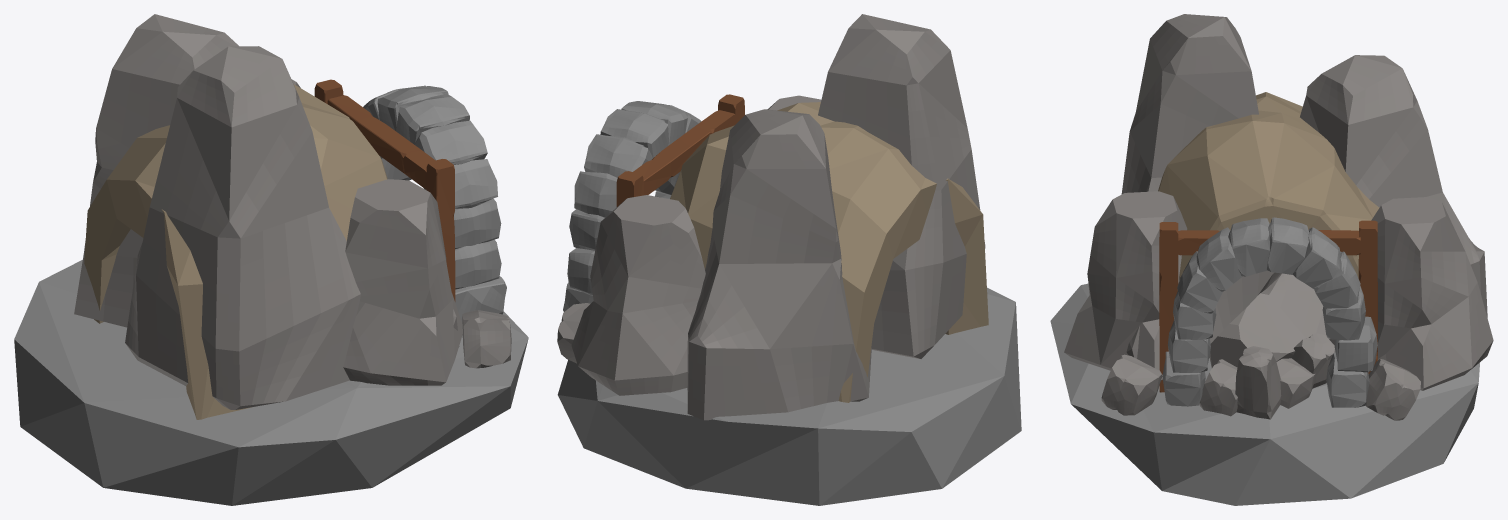
The model's file is stone mine 3.fbx.
3 renders of one model, left to right at view 1: azimuth 30°, elevation 25°; view 2: azimuth 150°, elevation 25°; view 3: azimuth 270°, elevation 25°, orthographic. The views are drawn at different scales.
Parts seen in each view (by area): view 1: stone_mine_3; view 2: stone_mine_3; view 3: stone_mine_3.
Part boxes in pixels (<box>): stone_mine_3: <box>14,14,528,505</box>; stone_mine_3: <box>557,14,1021,505</box>; stone_mine_3: <box>1050,14,1493,505</box>.
Size of the model in its own units: 57.1 by 51.51 by 56.93.
